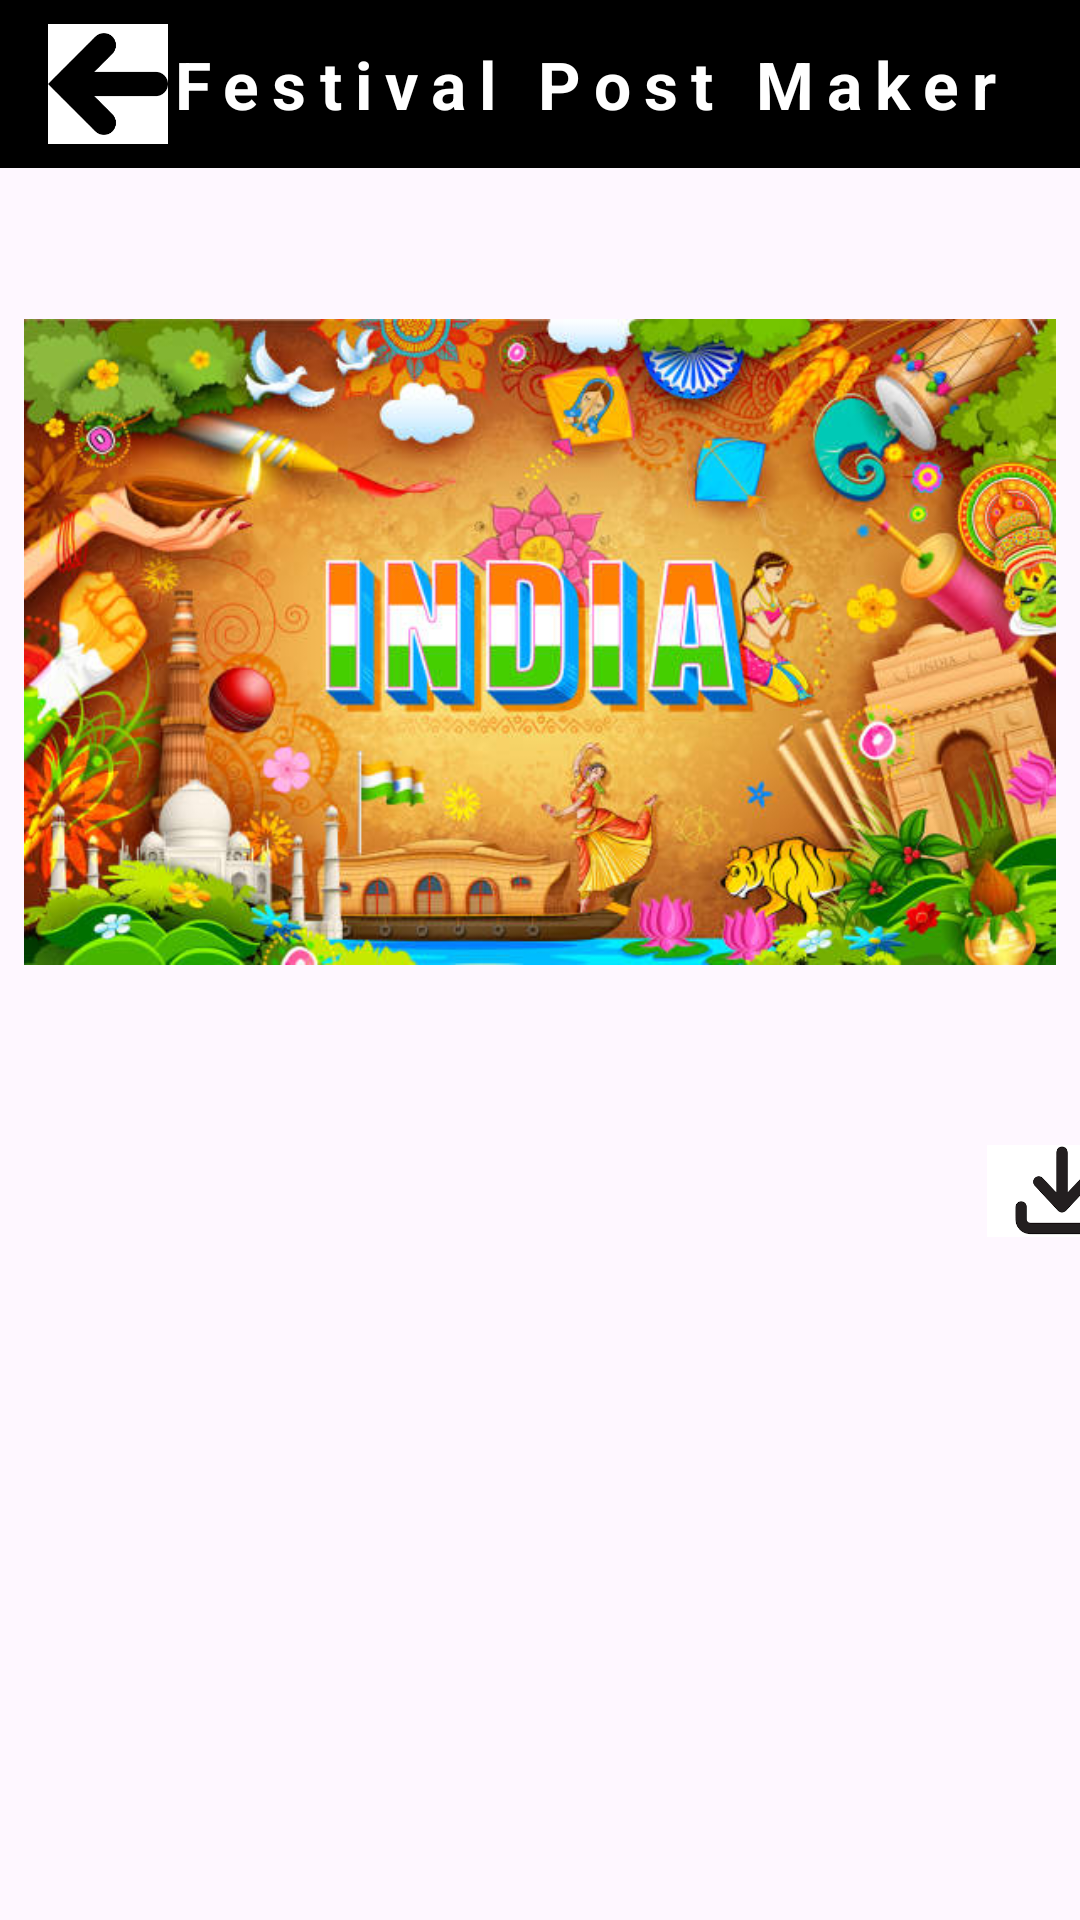

Point at icon controls on the screen. Image size 1080*1920, points as [x,y].
left: [108,84]
